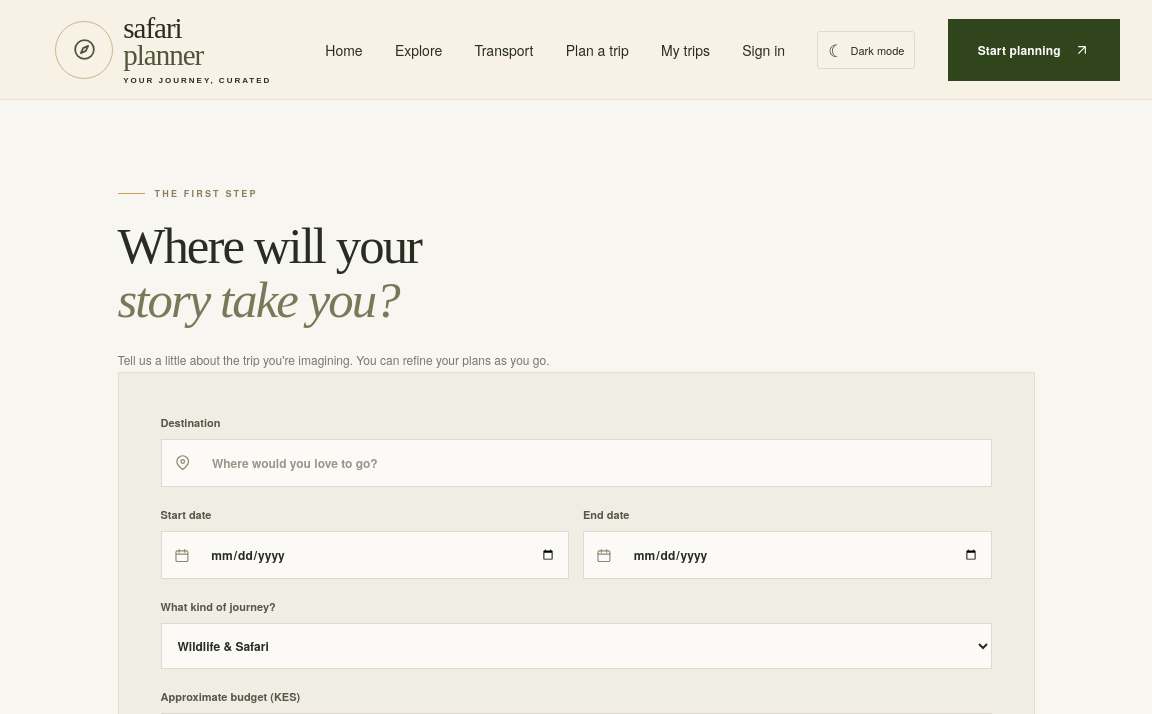
App trip planning › displays an API error when trip preferences cannot be saved
Step 1. Type "Maasai Mara" into the field labelled "Destination" → coordinates (595, 463), box [200,440,990,486]
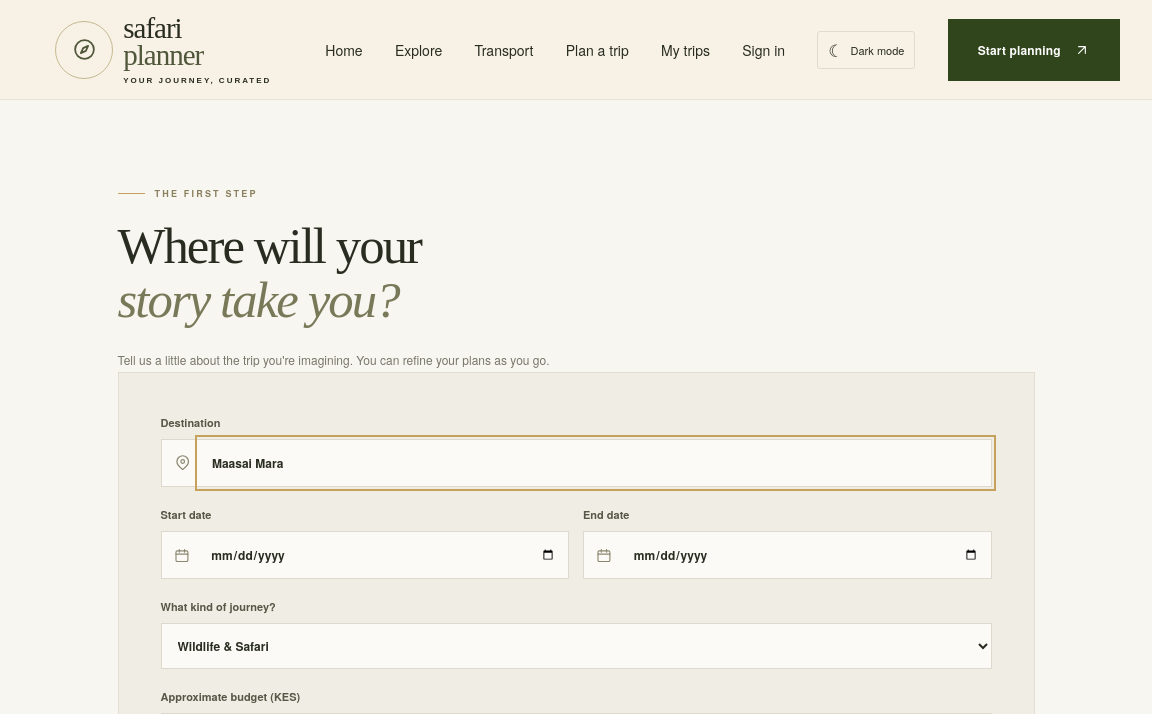
Step 2. Type "2030-06-10" into the date field labelled "Start date" → coordinates (383, 555), box [198,532,568,578]
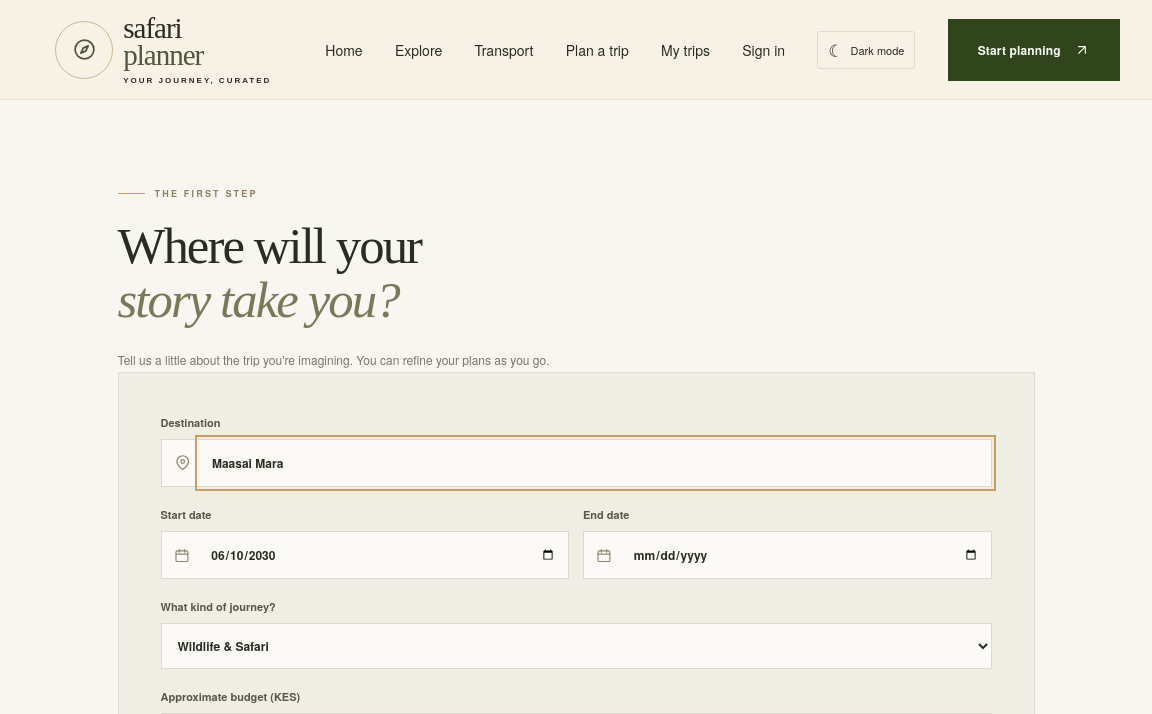
Step 3. Type "2030-06-14" into the date field labelled "End date" → coordinates (806, 555), box [621,532,990,578]
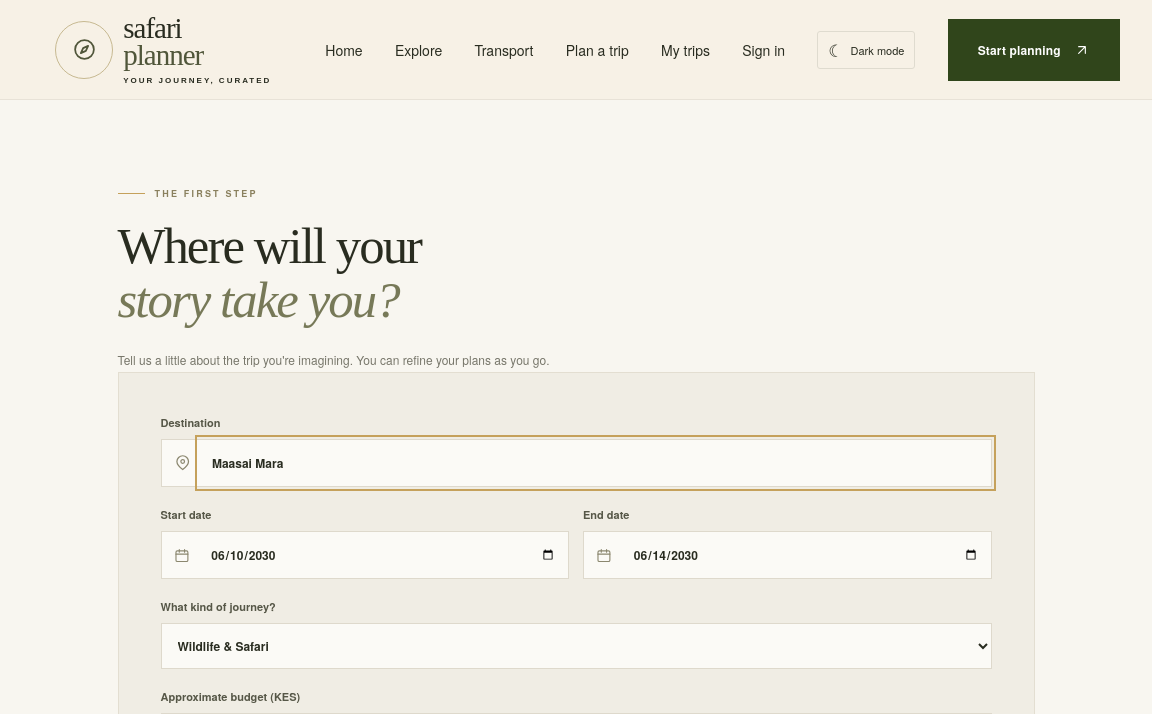
Step 4. Select "Wildlife & Safari" in the dropdown labelled "What kind of journey?" → coordinates (576, 646), box [160,623,992,669]
(page scrolled)
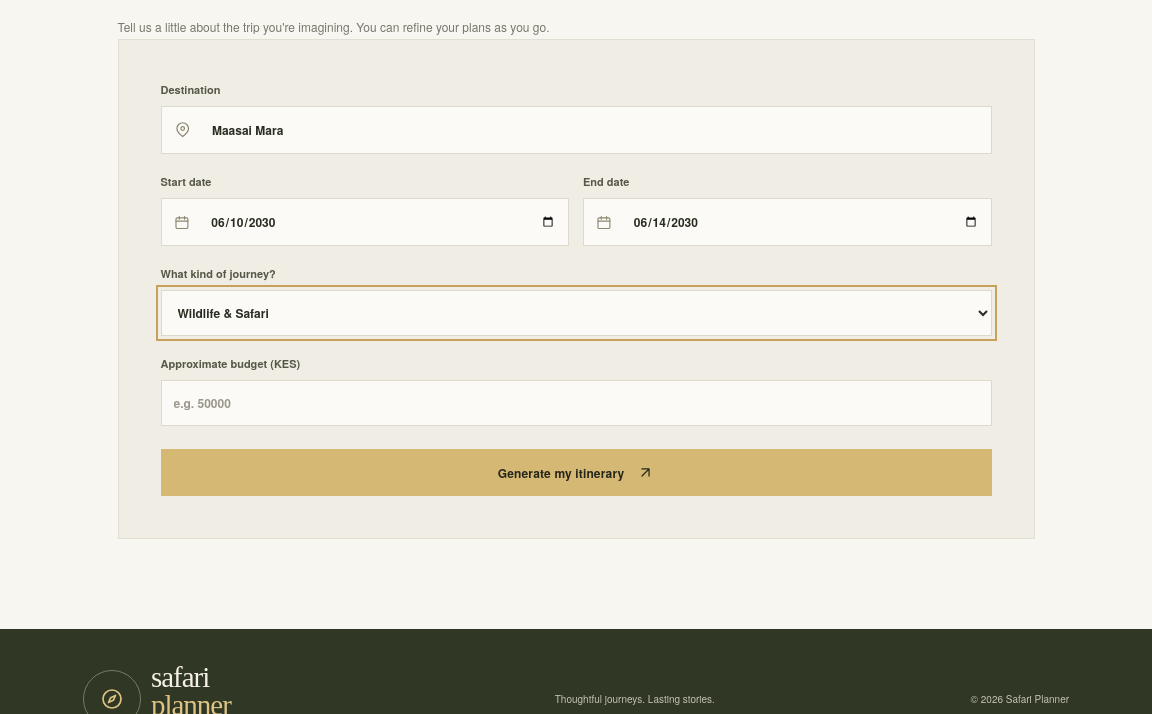
Step 5. Type "50000" into the number field labelled "Approximate budget (KES)" → coordinates (576, 403), box [160,380,992,426]
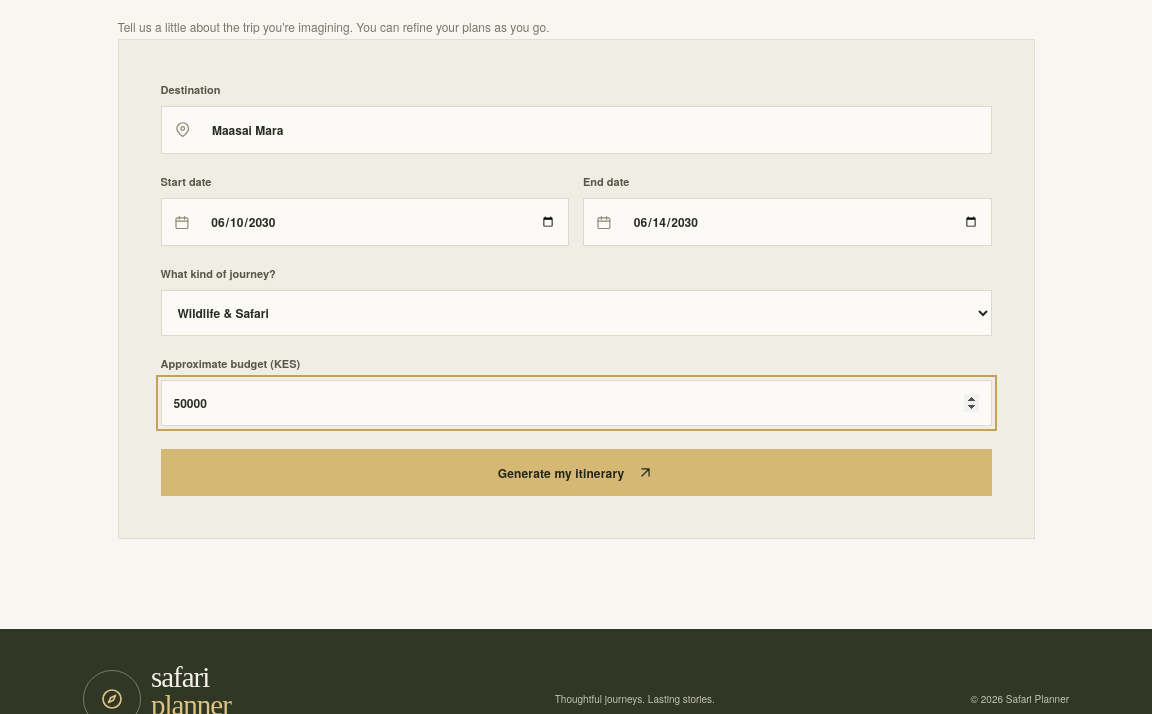
Step 6. Click the button "Generate my itinerary" → coordinates (576, 473), box [160,449,992,496]
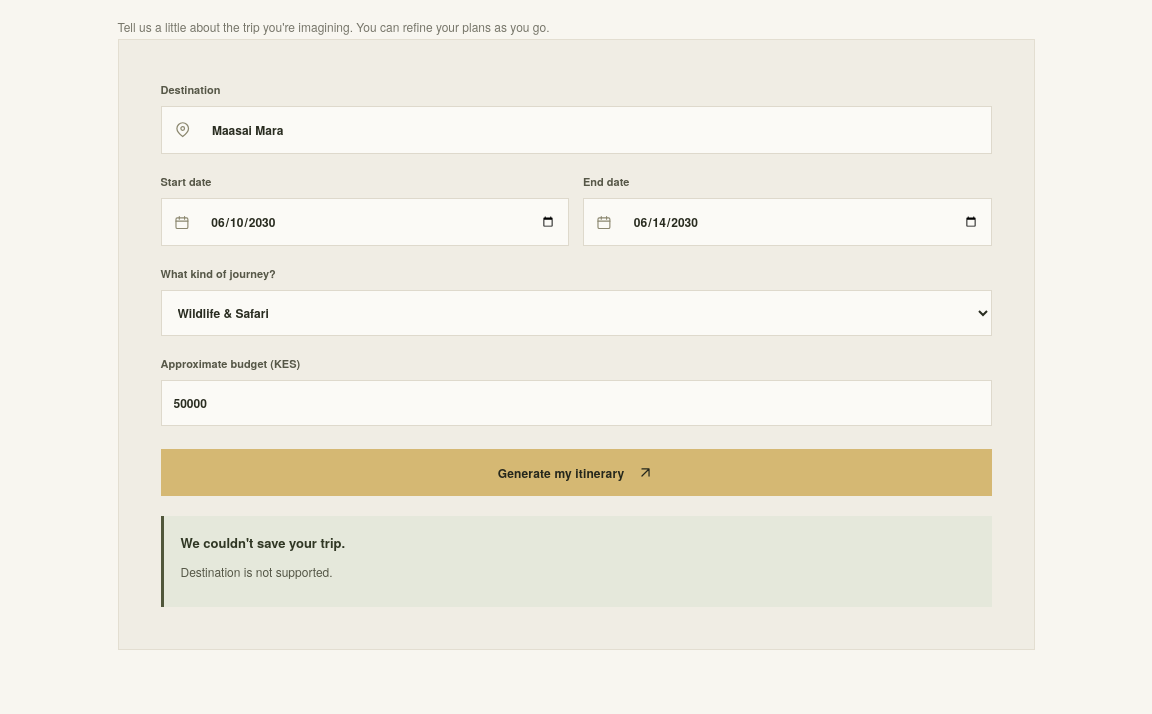
Expected: the text "Destination is not supported." is shown, [180,563,333,580]
